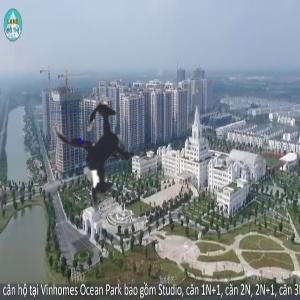drone: (4, 64, 188, 248)
